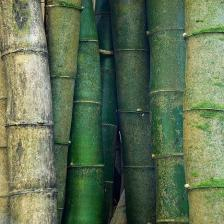green: (111, 0, 156, 224), (62, 0, 104, 224), (148, 0, 189, 224), (45, 0, 83, 224), (95, 0, 117, 224)
